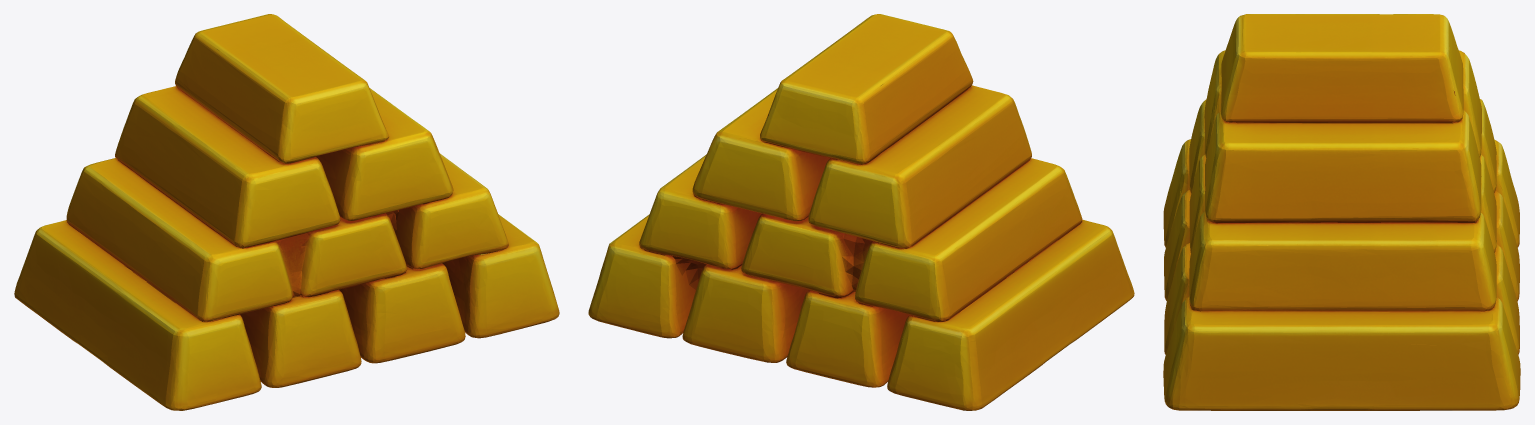
The model's file is gold_bars.glb.
The picture shows the model from 3 angles, left to right: view 1: azimuth 30°, elevation 25°; view 2: azimuth 150°, elevation 25°; view 3: azimuth 270°, elevation 25°; orthographic projection. The views are drawn at different scales.
Visible parts, largest first — view 1: geometry_0; view 2: geometry_0; view 3: geometry_0.
Part boxes in pixels (left/top/right/bottom): geometry_0: left=14, top=14, right=559, bottom=410; geometry_0: left=588, top=14, right=1134, bottom=410; geometry_0: left=1163, top=14, right=1520, bottom=410.
Size of the model in its own units: 0.9996 by 0.6151 by 0.725.
Materials: 1 (1 with a texture image).
